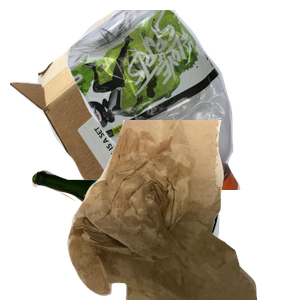cardboard: (10, 10, 227, 190)
glass: (29, 167, 241, 300)
plastic: (64, 10, 300, 190)
trash: (65, 120, 300, 300)
